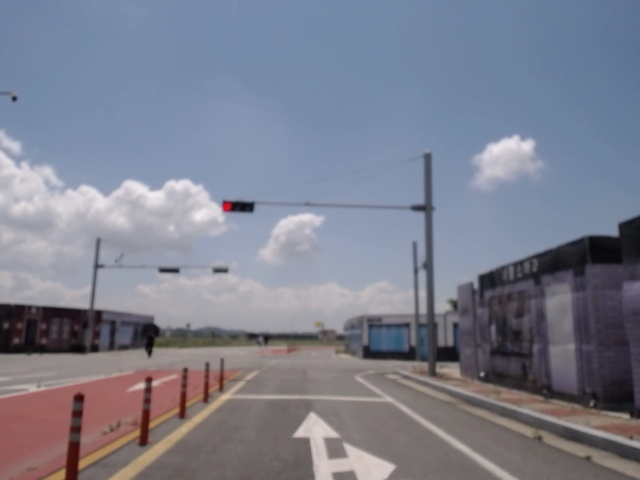red_3: (220, 200, 255, 213)
